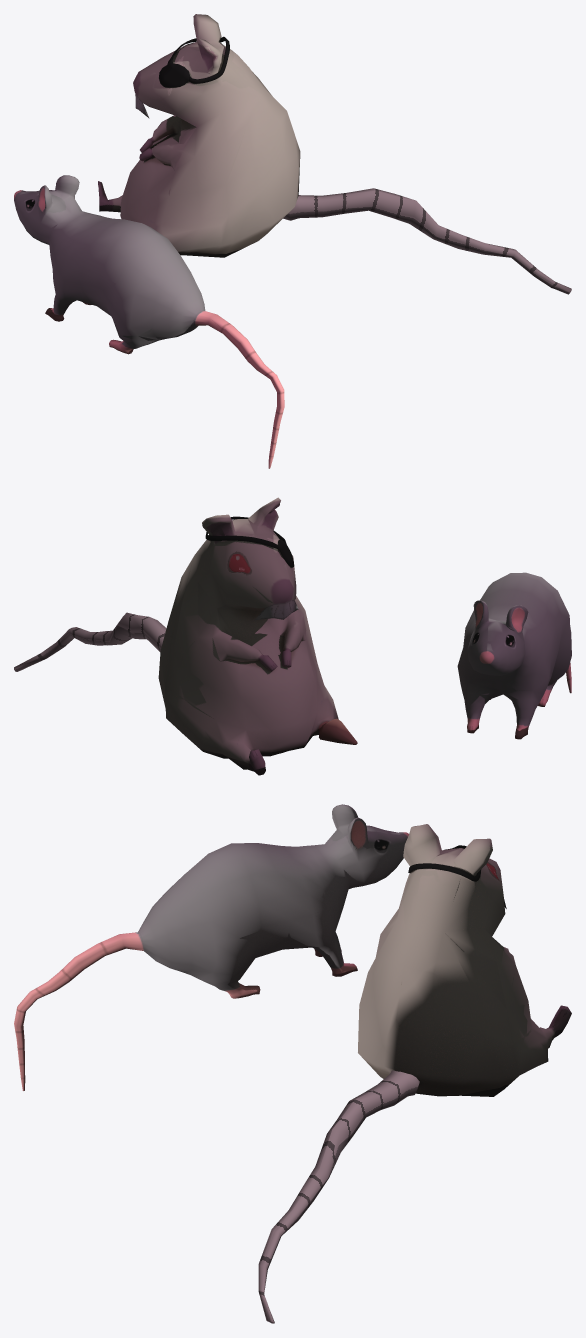
The model's file is rats-B1i1rPkQ.glb.
The picture shows the model from 3 angles, top to bottom: view 1: azimuth 30°, elevation 25°; view 2: azimuth 150°, elevation 25°; view 3: azimuth 270°, elevation 25°; orthographic projection. The views are drawn at different scales.
Parts seen in each view (by area): view 1: elder rat, rat model.002, tail, EYEPATCH; view 2: elder rat, rat model.002, tail, EYEPATCH; view 3: elder rat, rat model.002, tail.
Part boxes in pixels (x1,y1,x2,y2): elder rat: (98, 14, 300, 257); rat model.002: (14, 175, 284, 468); tail: (283, 188, 571, 294); EYEPATCH: (159, 36, 229, 87); elder rat: (158, 497, 357, 775); rat model.002: (457, 572, 571, 739); tail: (14, 612, 166, 671); EYEPATCH: (205, 516, 294, 567); elder rat: (358, 824, 571, 1096); rat model.002: (14, 804, 408, 1090); tail: (258, 1070, 419, 1323).
Size of the model in its own units: 0.9319 by 0.4924 by 0.7616.
Materials: 4 (4 with a texture image).
